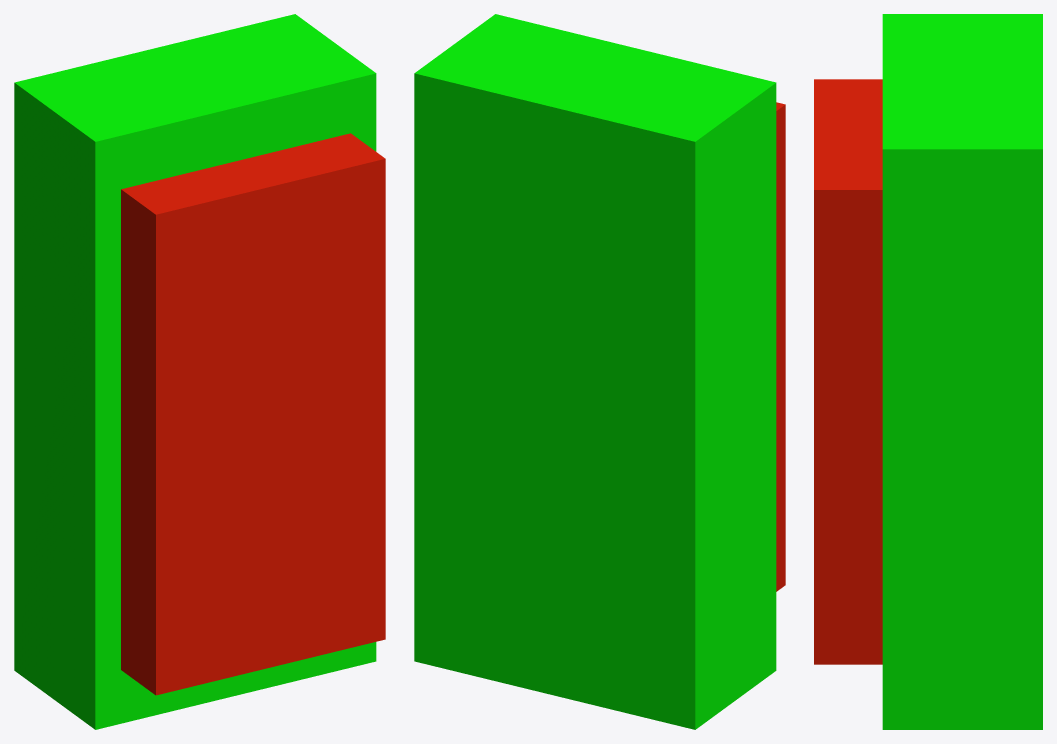
The model's file is box_2parts.glb.
The picture shows the model from 3 angles, left to right: view 1: azimuth 30°, elevation 25°; view 2: azimuth 150°, elevation 25°; view 3: azimuth 270°, elevation 25°; orthographic projection.
Visible parts, largest first — view 1: Cube; view 2: Cube; view 3: Cube.
Part boxes in pixels (bbox=[...]): Cube: bbox=[14, 14, 385, 729]; Cube: bbox=[414, 14, 785, 729]; Cube: bbox=[814, 14, 1042, 729].
Size of the model in its own units: 2 by 4 by 1.43.
